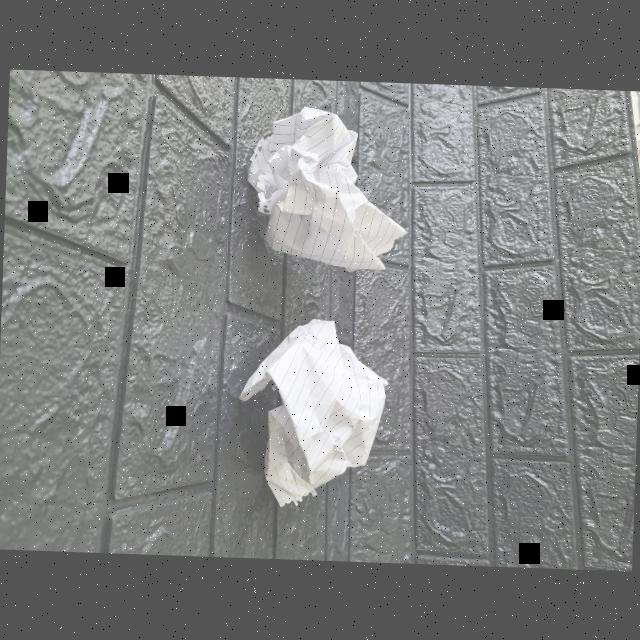scrap_paper: (244, 105, 415, 280), (238, 323, 389, 504)
